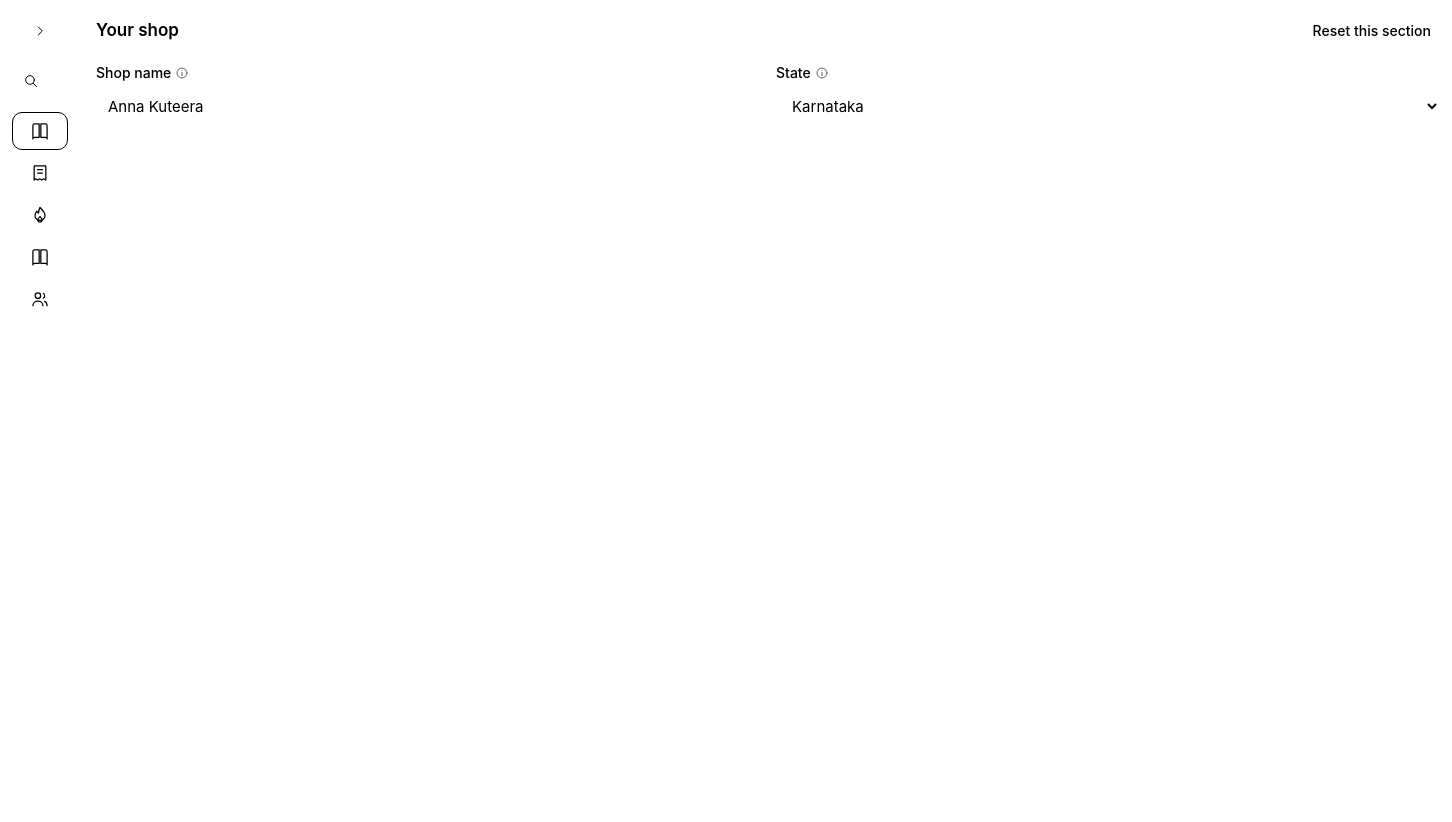
Scenario: the settings screen › drops the save bar when a setting is typed back to what is saved
The image size is (1452, 822).
Replace the text in the field labelled "Shop name" with "Anna Kuteera Veg": (428,106) [96, 87, 760, 125]
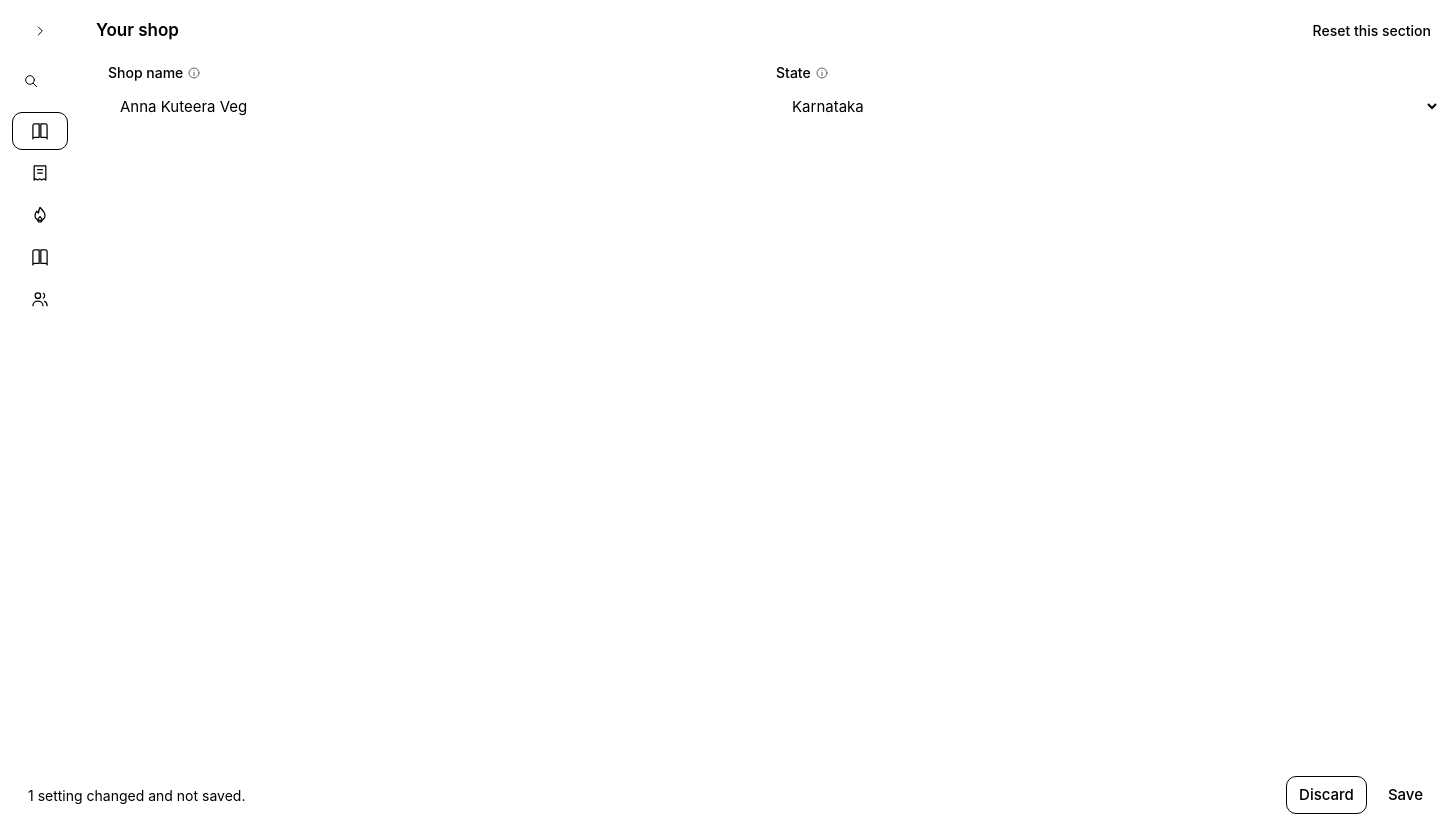
Expected: the text "1 setting changed and not saved." is shown, [28, 784, 245, 806]
Replace the text in the field labelled "Shop name" with "Anna Kuteera": (434,106) [108, 87, 760, 125]
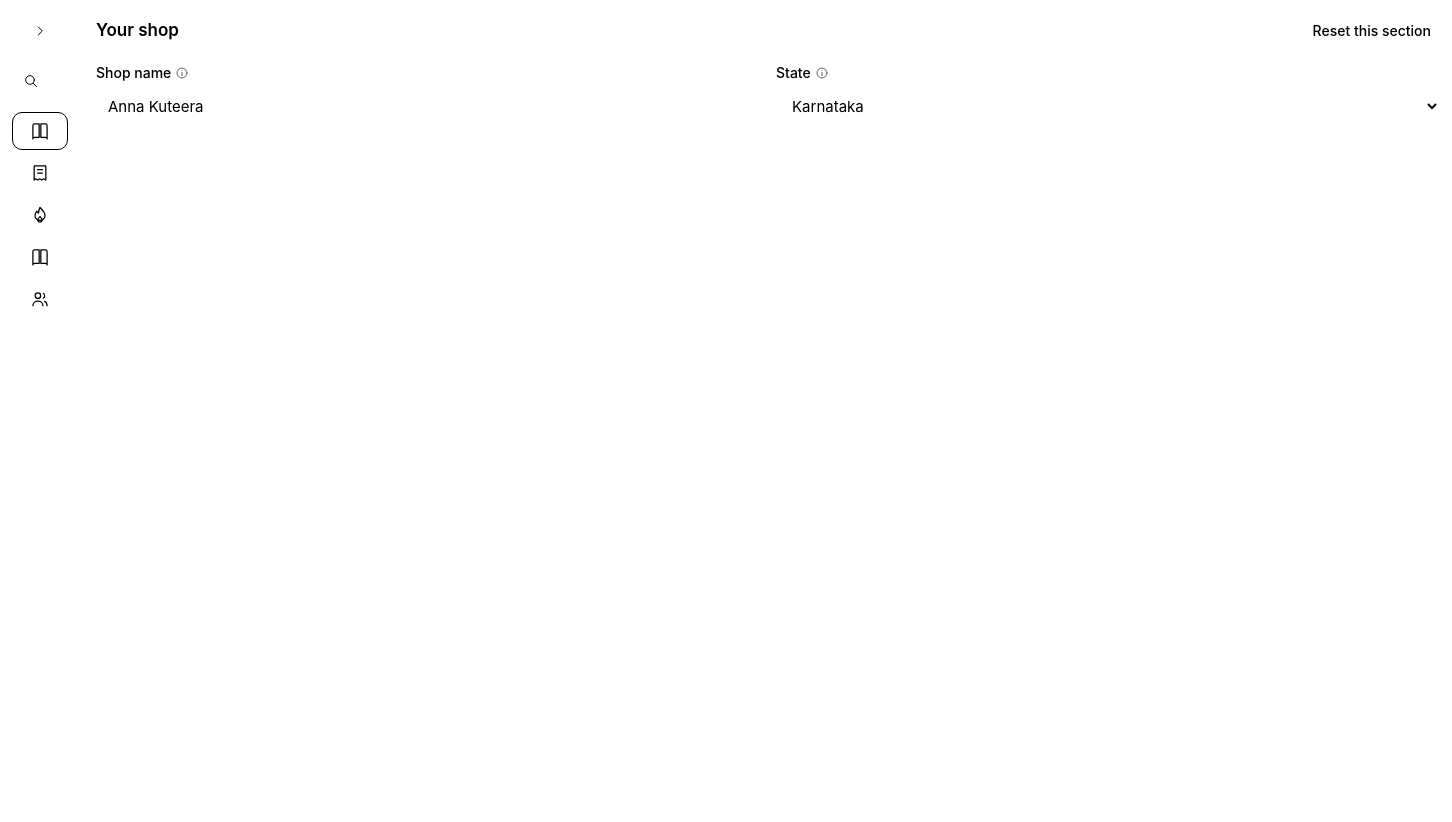
Expected: the text "changed and not saved" is gone
Expected: the text "save" is gone
